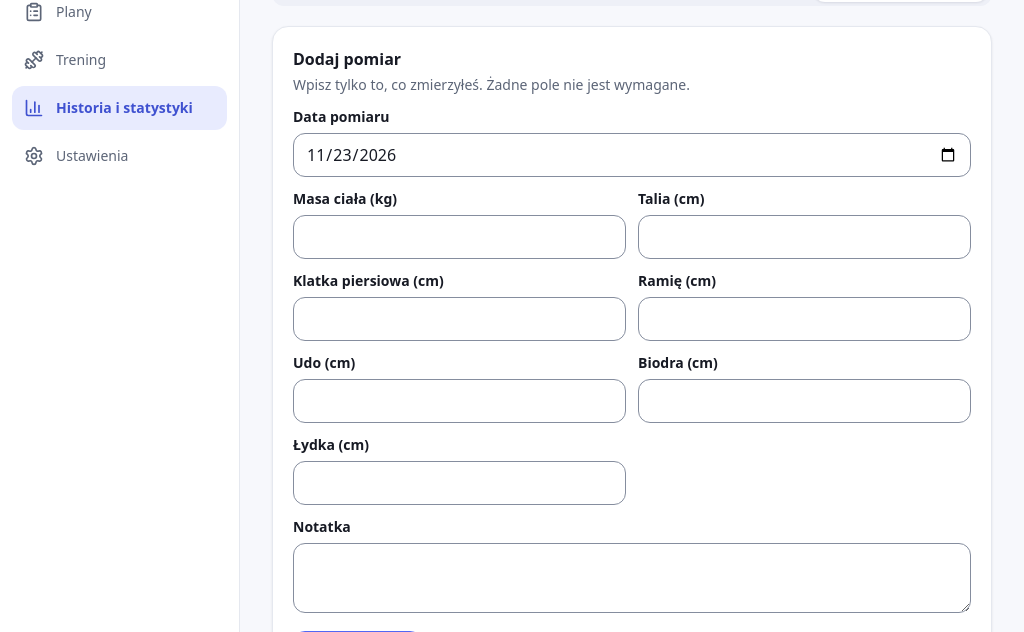
Test case: body measurements › draws a separate chart for each value that was measured
In the field labelled "Masa ciała (kg)": (460, 237) [293, 215, 626, 259], type "82"
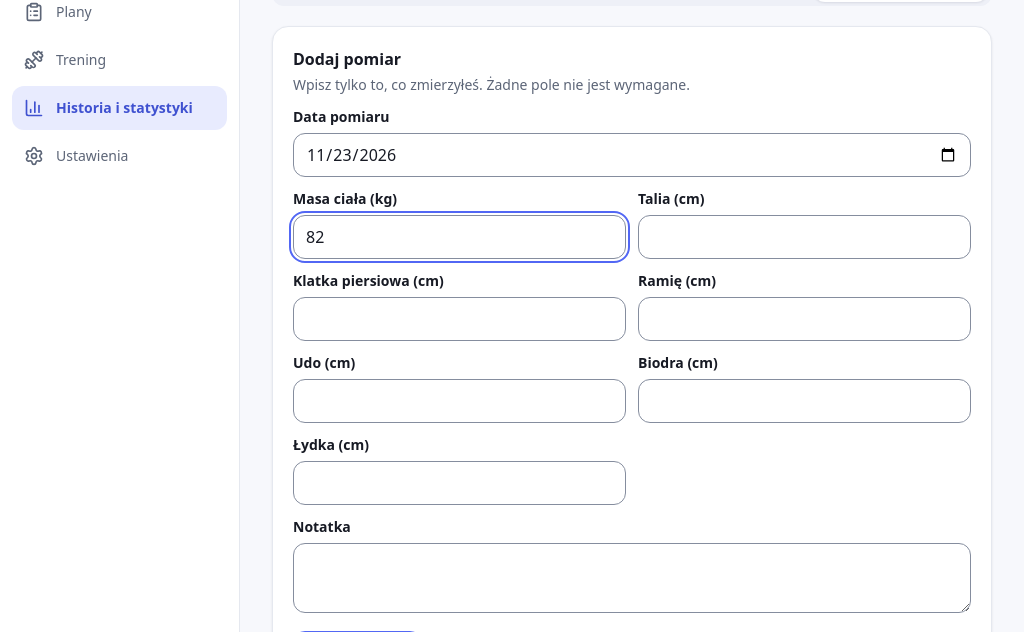
In the field labelled "Ramię (cm)": (804, 319) [638, 297, 971, 341], type "38"
(page scrolled)
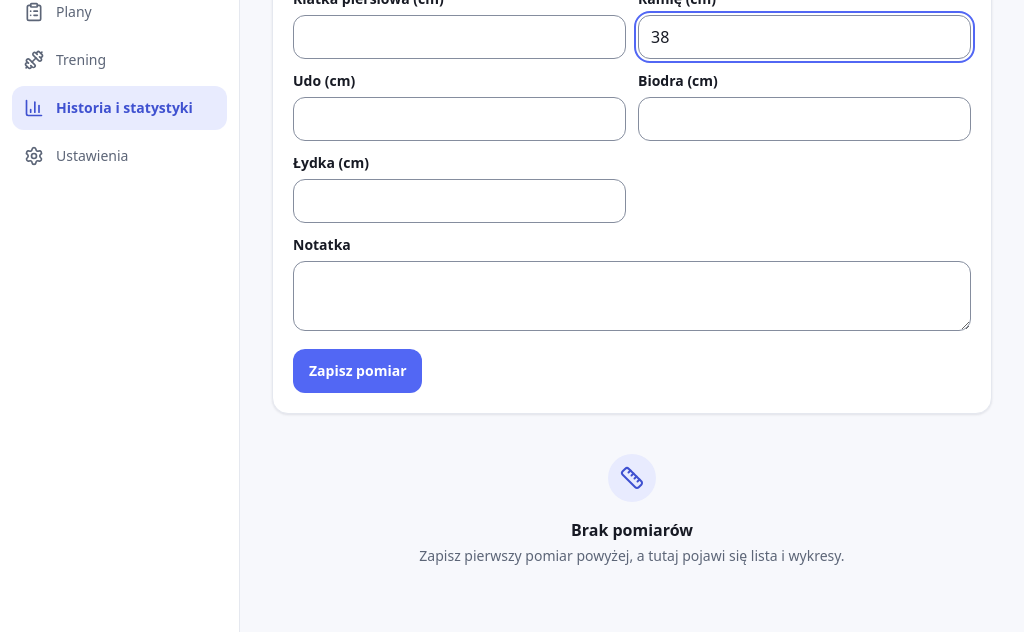
Click the button "Zapisz pomiar": (358, 371) [293, 349, 422, 393]
(page scrolled)
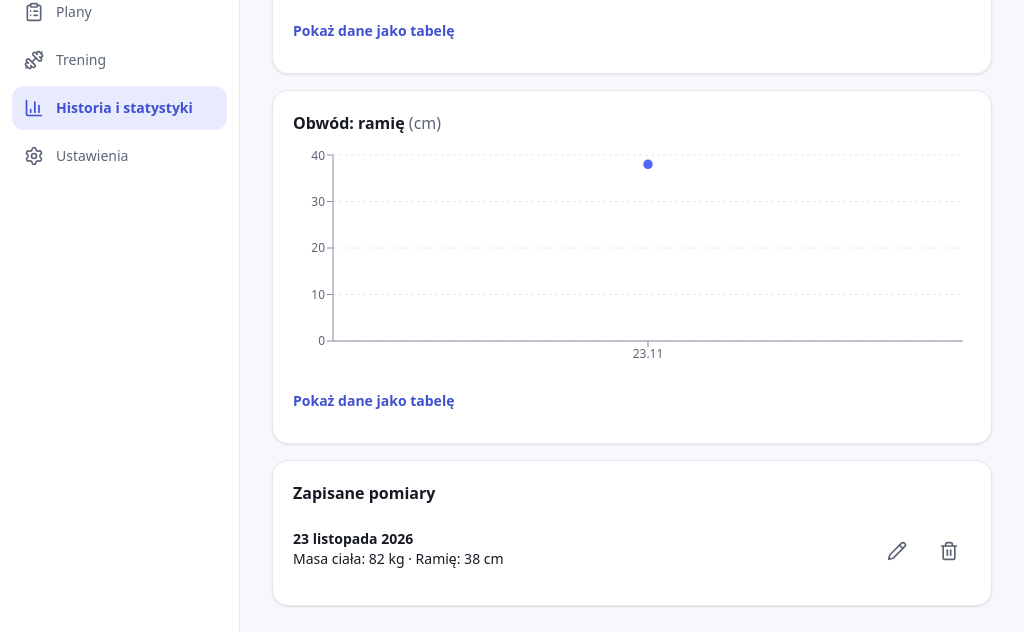
Result: the element "Obwód: ramię" is shown at [272, 90, 992, 444]
